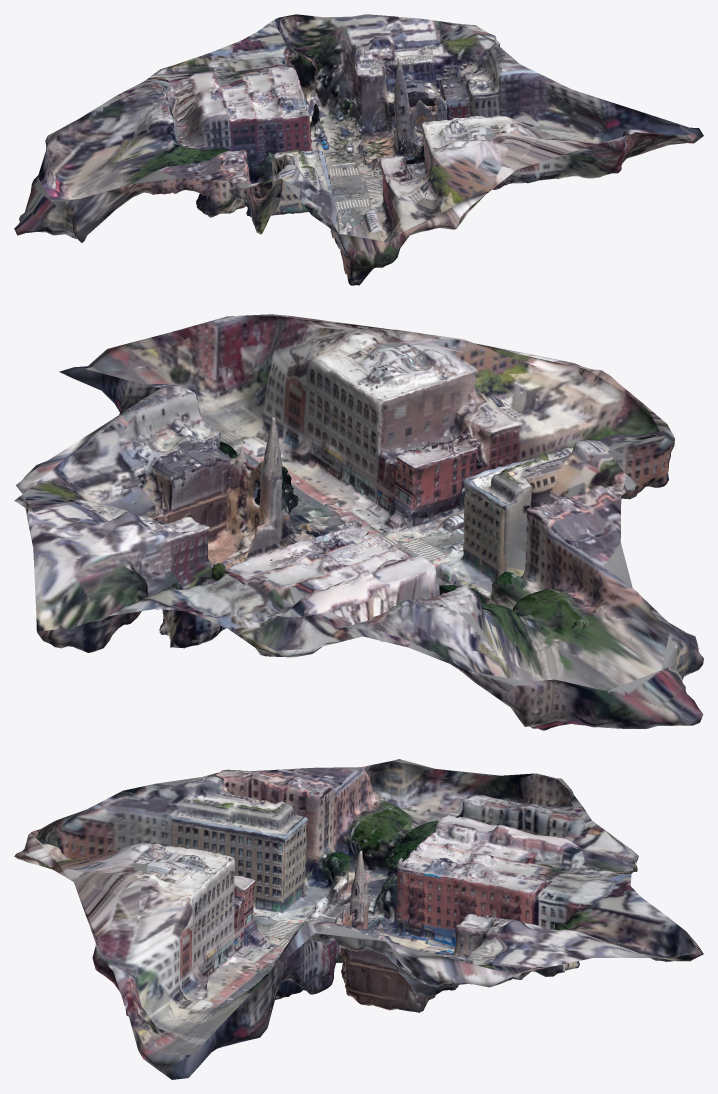
File: WebTest.glb
3 views of the same model, one above another, from view 1: azimuth 30°, elevation 25°; view 2: azimuth 150°, elevation 25°; view 3: azimuth 270°, elevation 25° (orthographic). The views are drawn at different scales.
Visible parts, largest first — view 1: model; view 2: model; view 3: model.
Boxes of the visible parts, x1=… form: model: x1=14, y1=14, x2=703, y2=285; model: x1=14, y1=314, x2=703, y2=730; model: x1=14, y1=759, x2=703, y2=1079.
Bounding box in the file's own units: 1.77 × 0.3528 × 1.5.
Materials: 1 (1 with a texture image).
